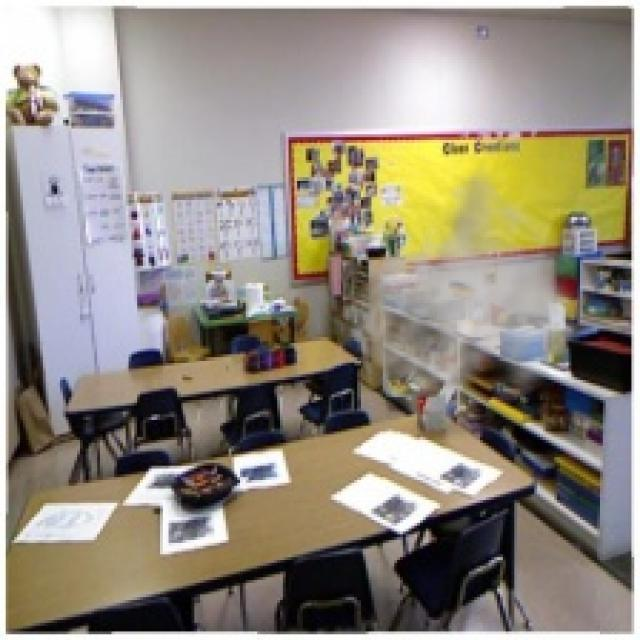Smoke: (337, 157, 586, 420)
